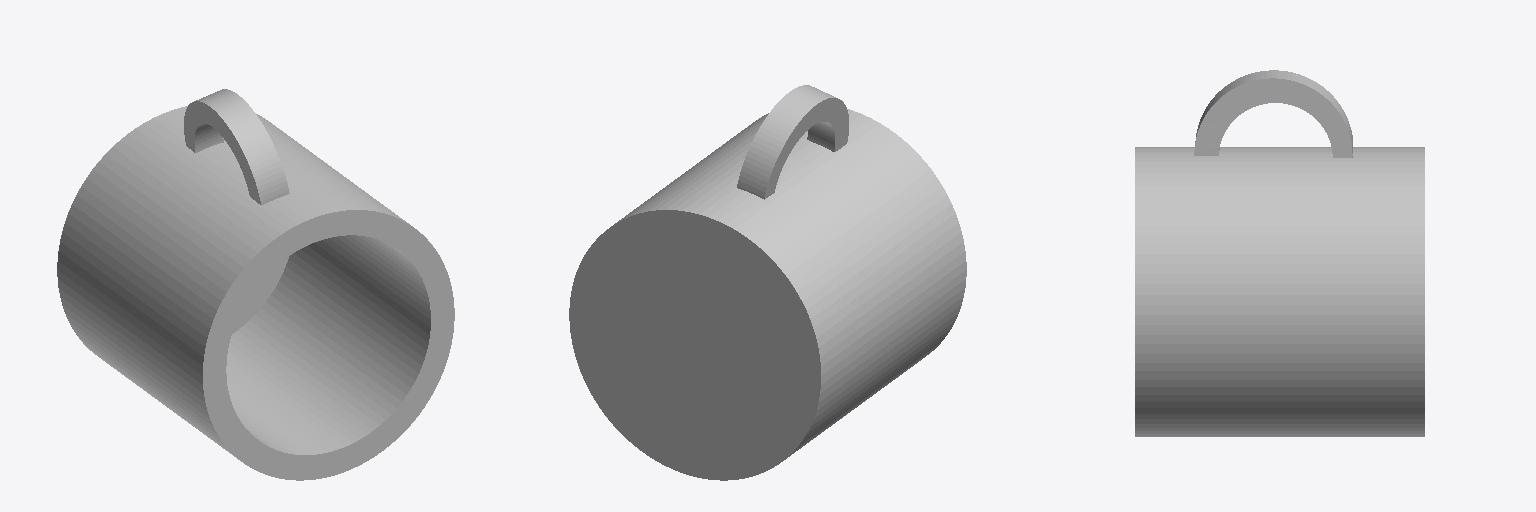
The model's file is mug_rs_gb.obj.
3 views of the same model, side by side, from view 1: azimuth 30°, elevation 25°; view 2: azimuth 150°, elevation 25°; view 3: azimuth 270°, elevation 25° (orthographic).
Parts seen in each view (by area): view 1: ____01, ____02; view 2: ____01, ____02; view 3: ____01, ____02.
Boxes of the visible parts, box(x1,y1,x2,y2) form: ____01: box(57, 106, 454, 480); ____02: box(184, 89, 289, 205); ____01: box(569, 109, 966, 480); ____02: box(737, 85, 848, 199); ____01: box(1135, 147, 1424, 436); ____02: box(1194, 70, 1352, 157).
Bounding box in the file's own units: 0.08 × 0.1018 × 0.08.